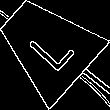L_NW: (18, 17, 75, 74)
